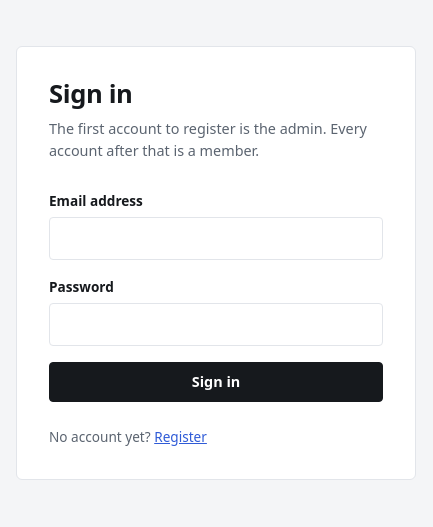
the sign in form › shows the message the server sent
The width and height of the screenshot is (433, 527).
Type "a@b.co" into the field labelled "Email address".
click(216, 238); type("a@b.co")  # box [49,217,383,260]
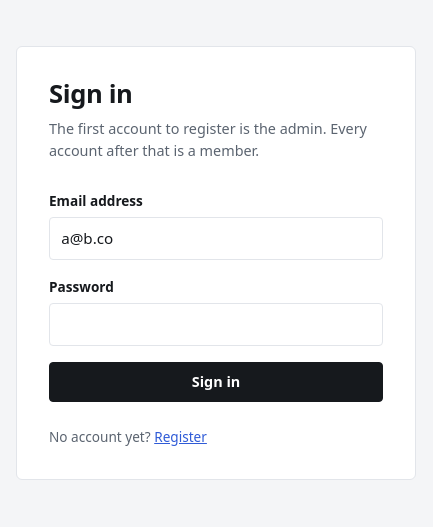
Type "wrong" into the password field labelled "Password".
click(216, 324); type("wrong")  # box [49,303,383,346]
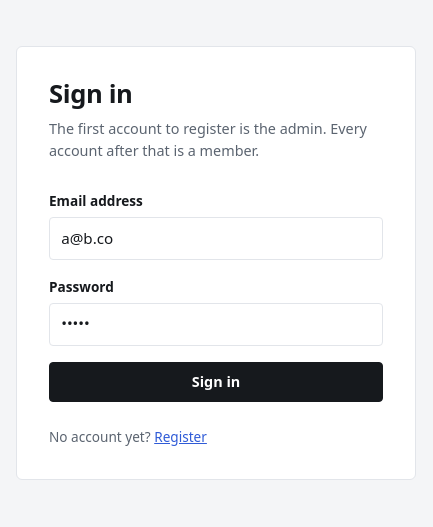
Click the button "Sign in".
click(216, 382)  # box [49,362,383,402]
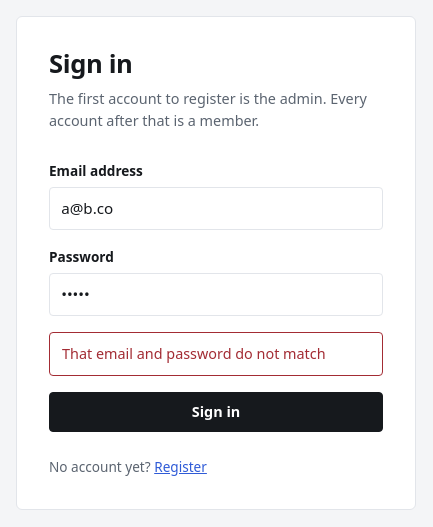
Result: the message reads "That email and password do not match" at [62,344,326,363]
